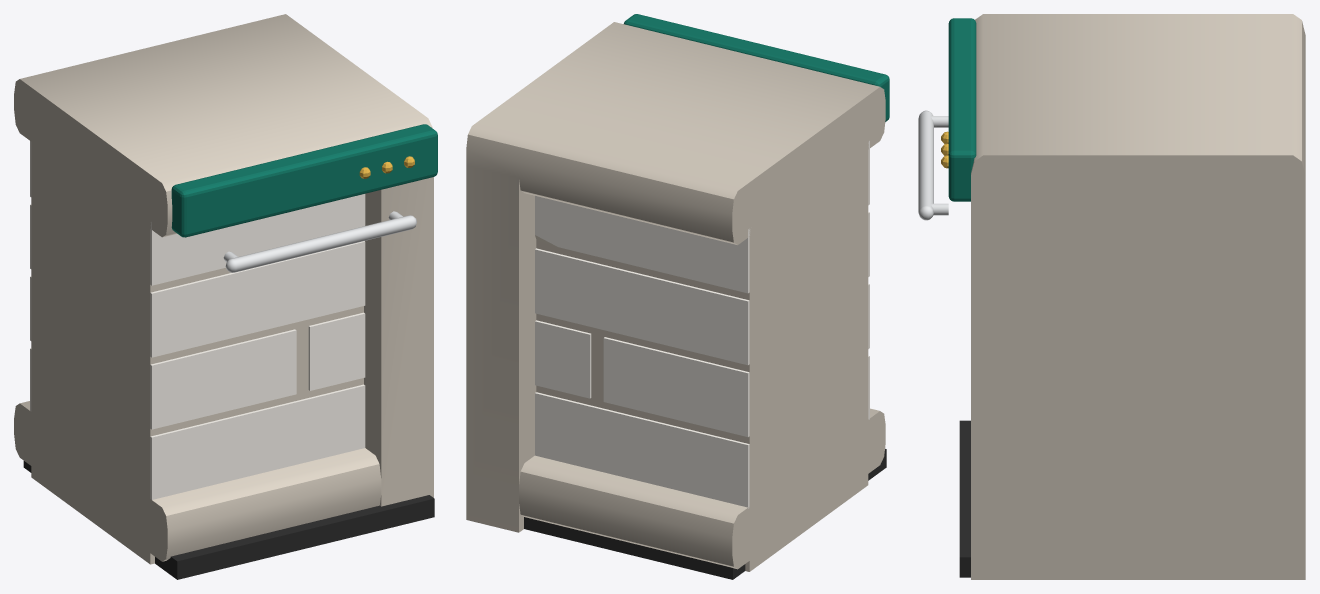
File: dishwasher_a.glb
3 renders of one model, left to right at view 1: azimuth 30°, elevation 25°; view 2: azimuth 150°, elevation 25°; view 3: azimuth 270°, elevation 25°, orthographic. The views are drawn at different scales.
Visible parts, largest first — view 1: body; view 2: body; view 3: body.
Part boxes in pixels (bbox=[...]): body: bbox=[14, 14, 437, 579]; body: bbox=[466, 14, 889, 579]; body: bbox=[918, 14, 1305, 579].
Size of the model in its own units: 0.6 by 0.84 by 0.694.
